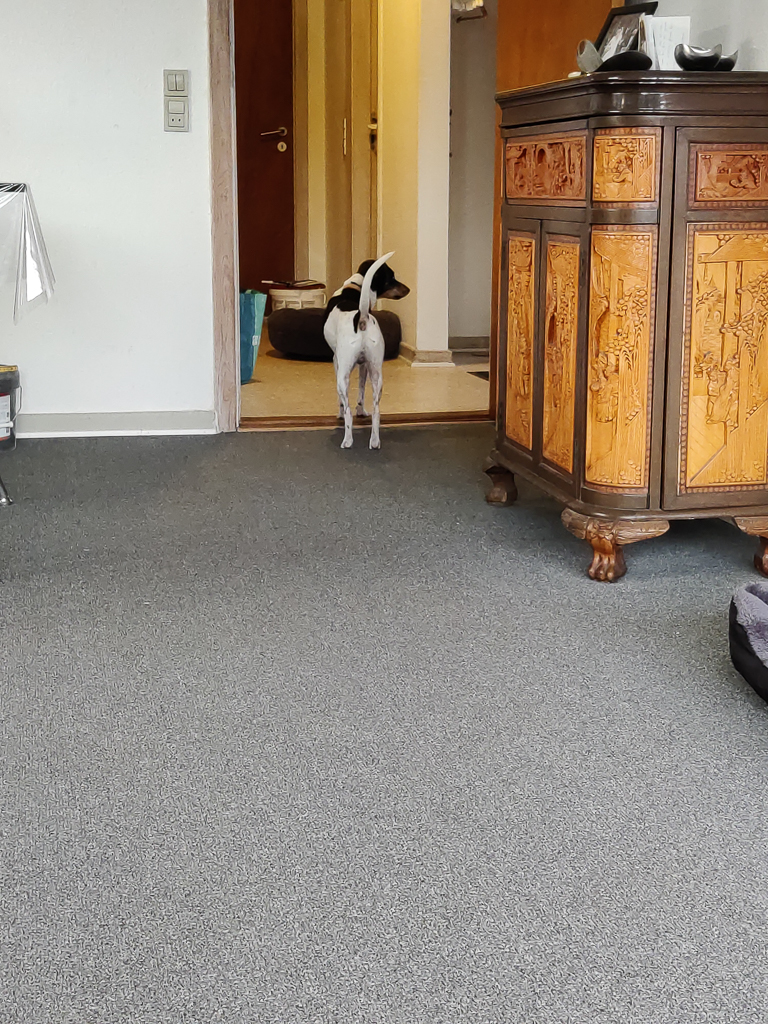Dog: (315, 248, 420, 455)
